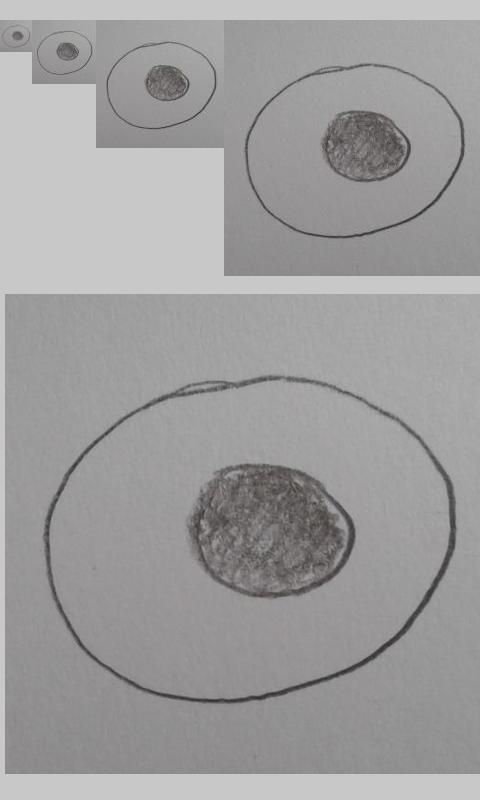radio_button: (42, 372, 460, 707), (244, 62, 465, 240), (105, 40, 219, 131), (36, 30, 94, 77), (1, 23, 31, 49)
